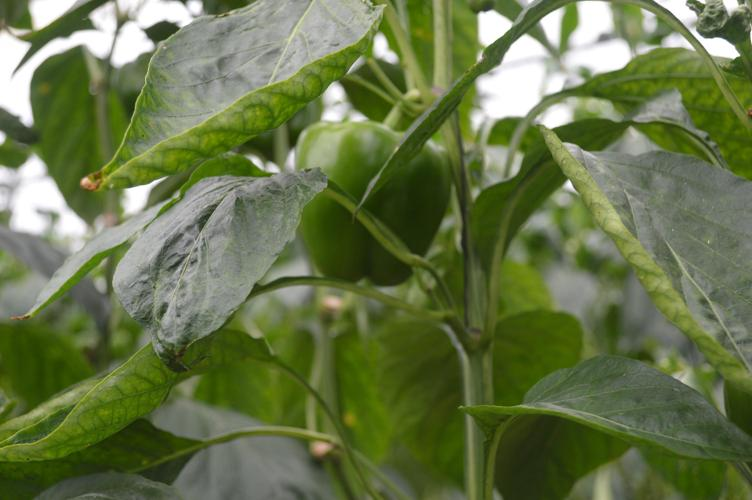BellPepper: (290, 119, 452, 286)
